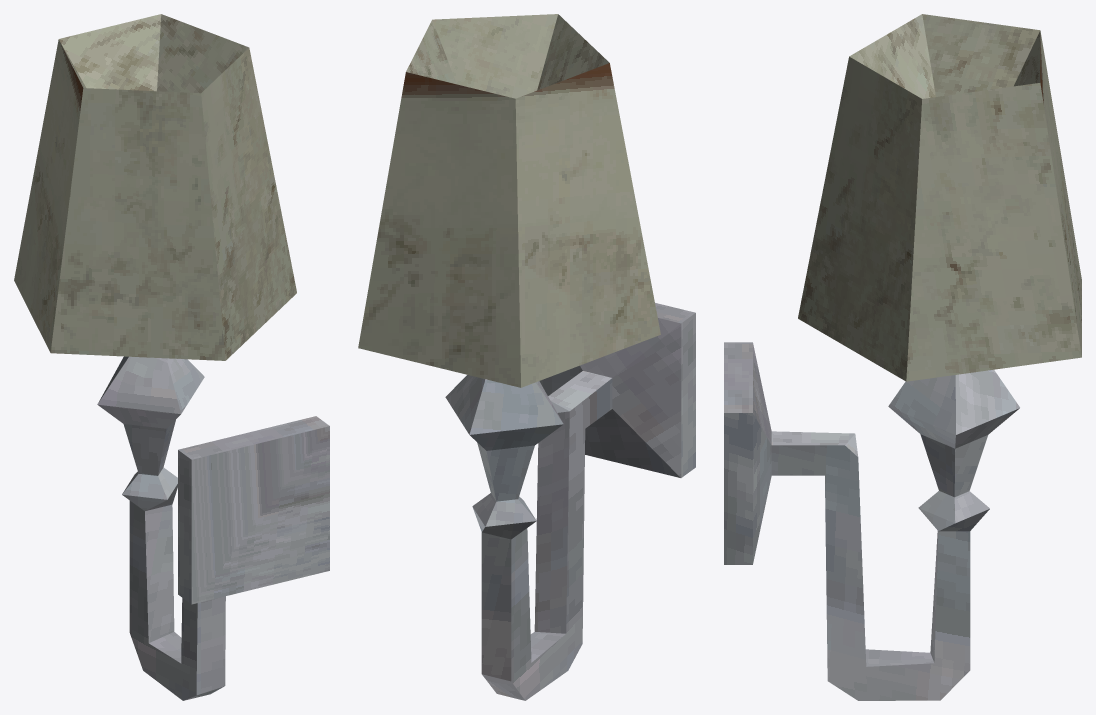
The model's file is item_halloween_wall_light.glb.
3 views of the same model, side by side, from view 1: azimuth 30°, elevation 25°; view 2: azimuth 150°, elevation 25°; view 3: azimuth 270°, elevation 25° (orthographic). The views are drawn at different scales.
Parts seen in each view (by area): view 1: wall_light_submesh_1, wall_light_submesh_0; view 2: wall_light_submesh_1, wall_light_submesh_0; view 3: wall_light_submesh_1, wall_light_submesh_0.
Part boxes in pixels (left/top/right/bottom): wall_light_submesh_1: left=14, top=14, right=296, bottom=360; wall_light_submesh_0: left=97, top=356, right=329, bottom=700; wall_light_submesh_1: left=358, top=14, right=660, bottom=387; wall_light_submesh_0: left=445, top=303, right=695, bottom=700; wall_light_submesh_1: left=798, top=14, right=1081, bottom=381; wall_light_submesh_0: left=724, top=342, right=1019, bottom=700.
Bounding box in the file's own units: 0.2124 × 0.5 × 0.2544.
Materials: 2 (2 with a texture image).
